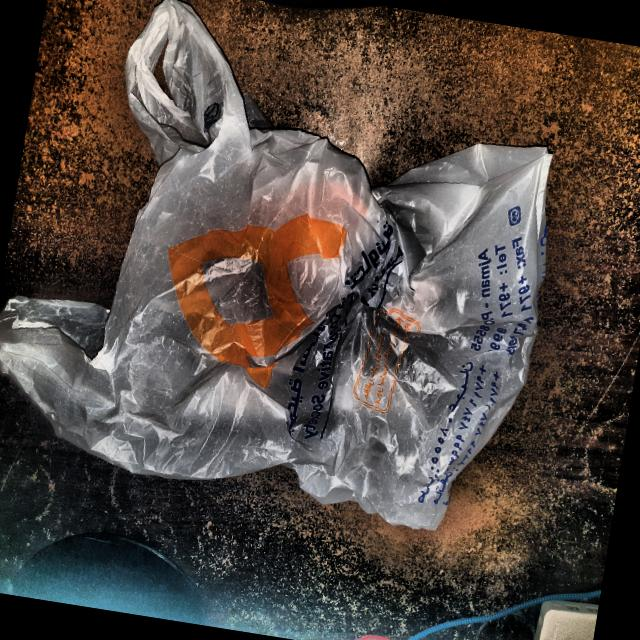plastic bag: (0, 0, 591, 557)
